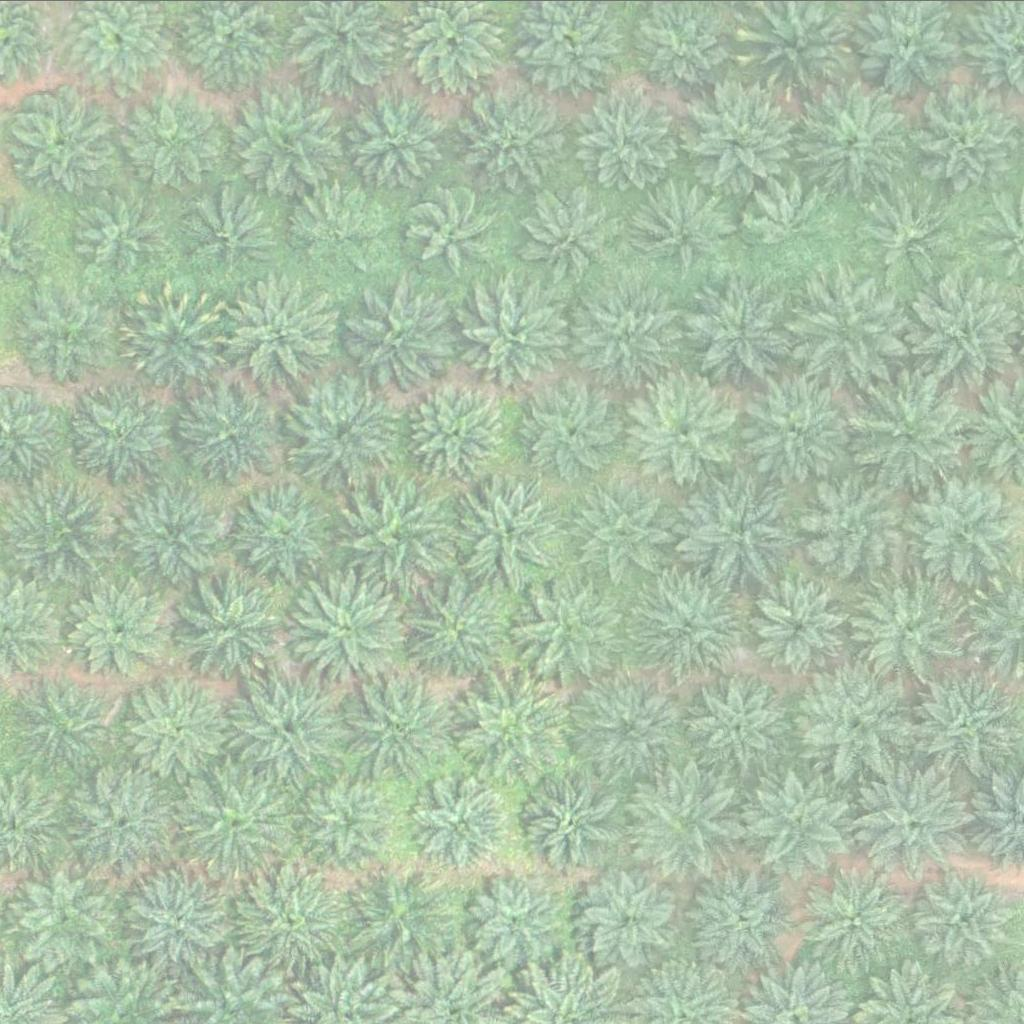Kelapa_Sawit: (339, 668, 453, 781), (515, 570, 629, 683), (741, 375, 855, 488), (851, 378, 965, 491), (570, 477, 684, 590), (680, 475, 794, 588), (635, 567, 749, 680), (119, 281, 232, 394), (172, 764, 285, 877), (232, 667, 345, 780), (293, 573, 406, 686), (402, 571, 515, 684), (223, 277, 336, 390), (340, 282, 453, 395), (462, 278, 575, 391), (570, 80, 683, 193), (684, 78, 797, 191), (797, 87, 910, 200), (801, 471, 914, 584), (745, 763, 858, 876), (858, 763, 971, 876), (794, 865, 907, 978), (124, 866, 238, 978), (232, 858, 346, 970), (464, 668, 578, 780), (791, 275, 905, 387), (908, 273, 1022, 385), (68, 378, 181, 490), (119, 479, 232, 591), (69, 767, 182, 879), (347, 861, 460, 973), (573, 672, 686, 784), (173, 571, 286, 683), (226, 481, 339, 593), (342, 482, 455, 594), (456, 474, 569, 586), (289, 379, 402, 491), (513, 375, 626, 487), (570, 276, 683, 388), (233, 78, 346, 190), (341, 80, 454, 192), (685, 277, 798, 389), (628, 377, 741, 489), (908, 467, 1021, 579), (852, 572, 965, 684), (798, 672, 911, 784), (905, 668, 1018, 780), (627, 769, 740, 881), (16, 286, 117, 386), (66, 581, 167, 681), (11, 674, 112, 774), (127, 676, 228, 776), (14, 866, 115, 966), (464, 869, 565, 969), (583, 867, 684, 967), (525, 767, 626, 867), (181, 385, 282, 485), (404, 382, 505, 482), (465, 84, 566, 184), (631, 179, 732, 279), (749, 575, 850, 675), (690, 673, 791, 773), (687, 867, 788, 967), (914, 866, 1015, 966), (412, 772, 512, 872), (15, 93, 115, 193), (125, 80, 225, 180), (858, 187, 958, 287), (309, 778, 397, 866), (190, 187, 278, 275), (748, 182, 836, 270), (80, 183, 168, 270), (294, 184, 382, 271), (408, 189, 496, 276), (524, 188, 612, 275)
